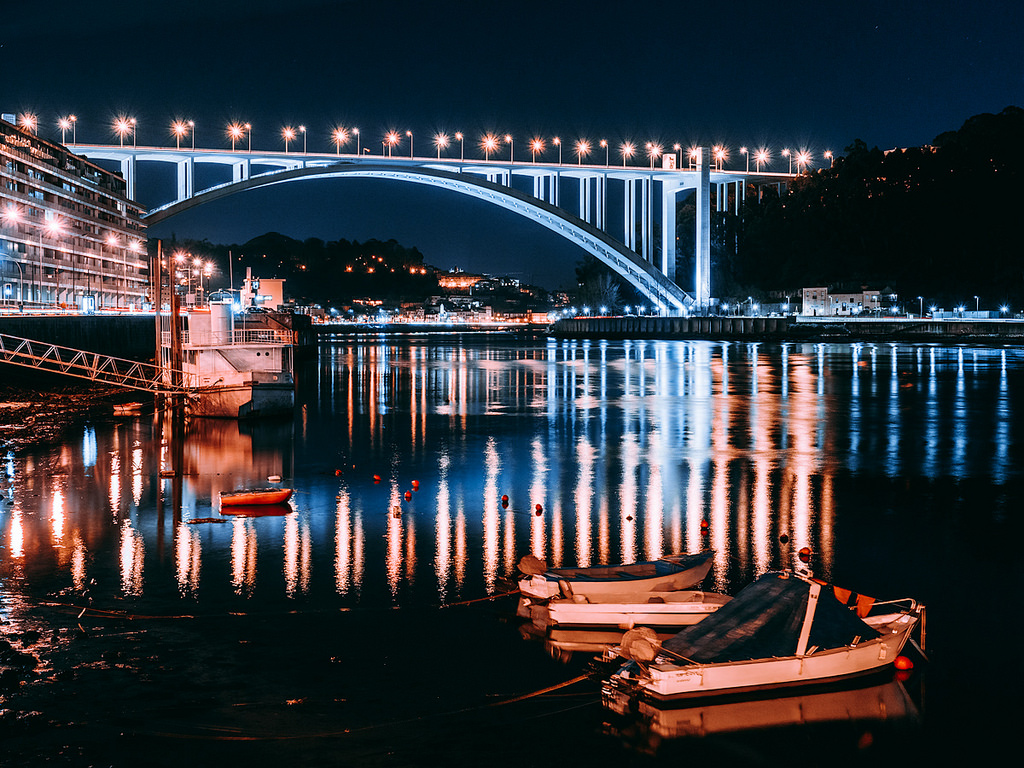arrabida: (53, 140, 817, 316)
